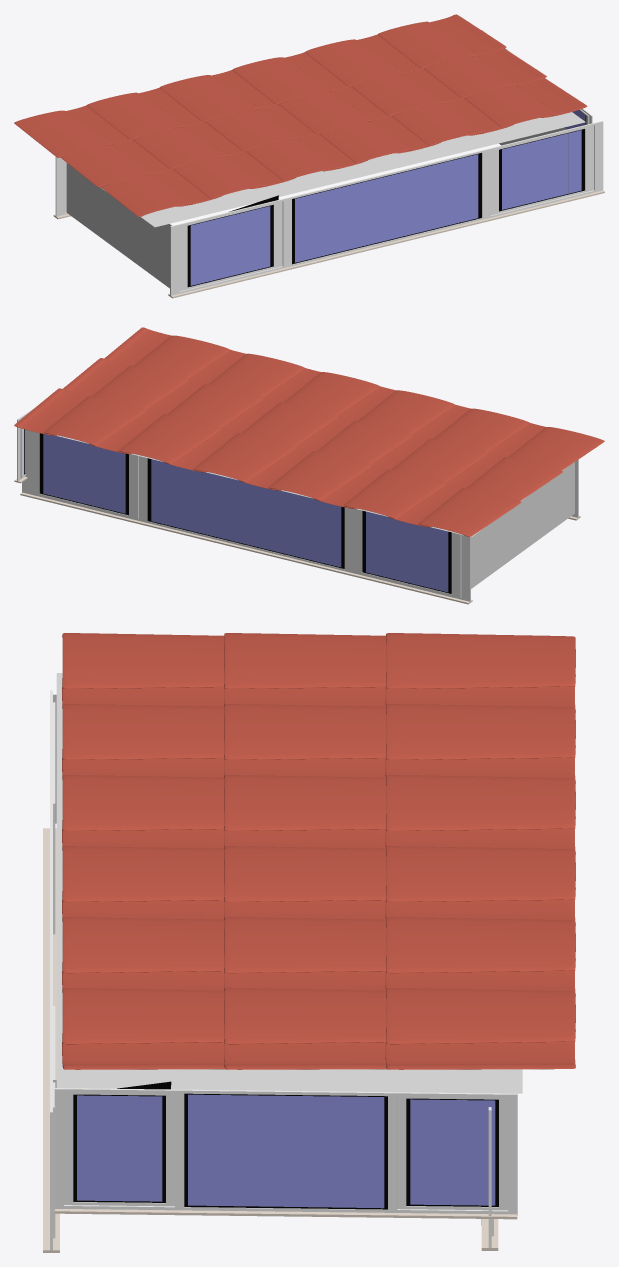
File: lyddaerolTerminalupblend.fbx
3 views of the same model, one above another, from view 1: azimuth 30°, elevation 25°; view 2: azimuth 150°, elevation 25°; view 3: azimuth 270°, elevation 25° (orthographic). The views are drawn at different scales.
Parts seen in each view (by area): view 1: lyddaerolTerminalupRoof, lyddaerolTerminalupWindow_.001, lyddaerolTerminalup, lyddaerolTerminalup.003, lyddaerolTerminalupWindow_; view 2: lyddaerolTerminalupRoof, lyddaerolTerminalupWindow_, lyddaerolTerminalup.003, lyddaerolTerminalupWindow; view 3: lyddaerolTerminalupRoof, lyddaerolTerminalupWindow, lyddaerolTerminalup, lyddaerolTerminalupWindow_.001, lyddaerolTerminalupWindow_.
Part boxes in pixels (x1,y1,x2,y2): lyddaerolTerminalupRoof: (14,14,587,216); lyddaerolTerminalupWindow_.001: (168,121,604,298); lyddaerolTerminalup: (60,112,585,227); lyddaerolTerminalup.003: (66,163,171,288); lyddaerolTerminalupWindow_: (53,157,70,219); lyddaerolTerminalupRoof: (14,327,604,536); lyddaerolTerminalupWindow_: (20,430,472,604); lyddaerolTerminalup.003: (471,462,574,588); lyddaerolTerminalupWindow: (14,386,65,483); lyddaerolTerminalupRoof: (62,633,575,1069); lyddaerolTerminalupWindow: (54,1081,517,1219); lyddaerolTerminalup: (56,673,522,1093); lyddaerolTerminalupWindow_.001: (43,690,59,1252); lyddaerolTerminalupWindow_: (481,1107,498,1250).
Size of the model in its own units: 9351 by 1679 by 4676.
